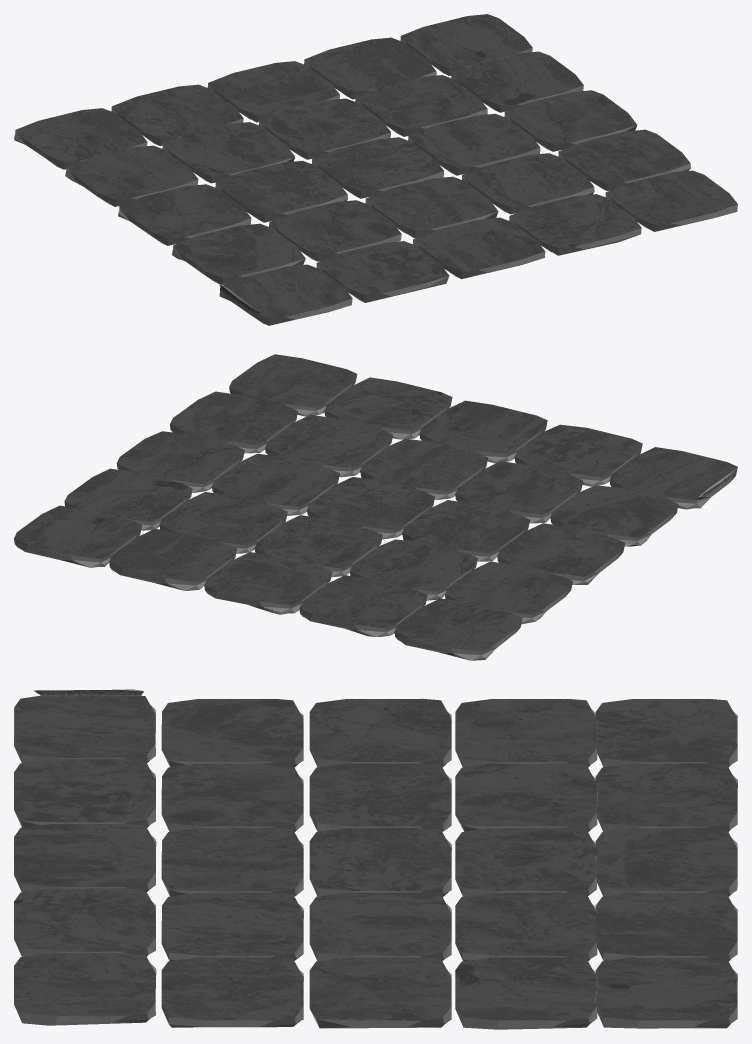
Rendered from ROCK E.fbx.
3 renders of one model, top to bottom at view 1: azimuth 30°, elevation 25°; view 2: azimuth 150°, elevation 25°; view 3: azimuth 270°, elevation 25°, orthographic. The views are drawn at different scales.
Parts seen in each view (by area): view 1: ROCK E; view 2: ROCK E; view 3: ROCK E.
Part boxes in pixels (x1=…): ROCK E: x1=14, y1=14, x2=737, y2=325; ROCK E: x1=14, y1=354, x2=737, y2=660; ROCK E: x1=14, y1=689, x2=737, y2=1029.
Bounding box in the file's own units: 4 × 0.1155 × 3.76.
